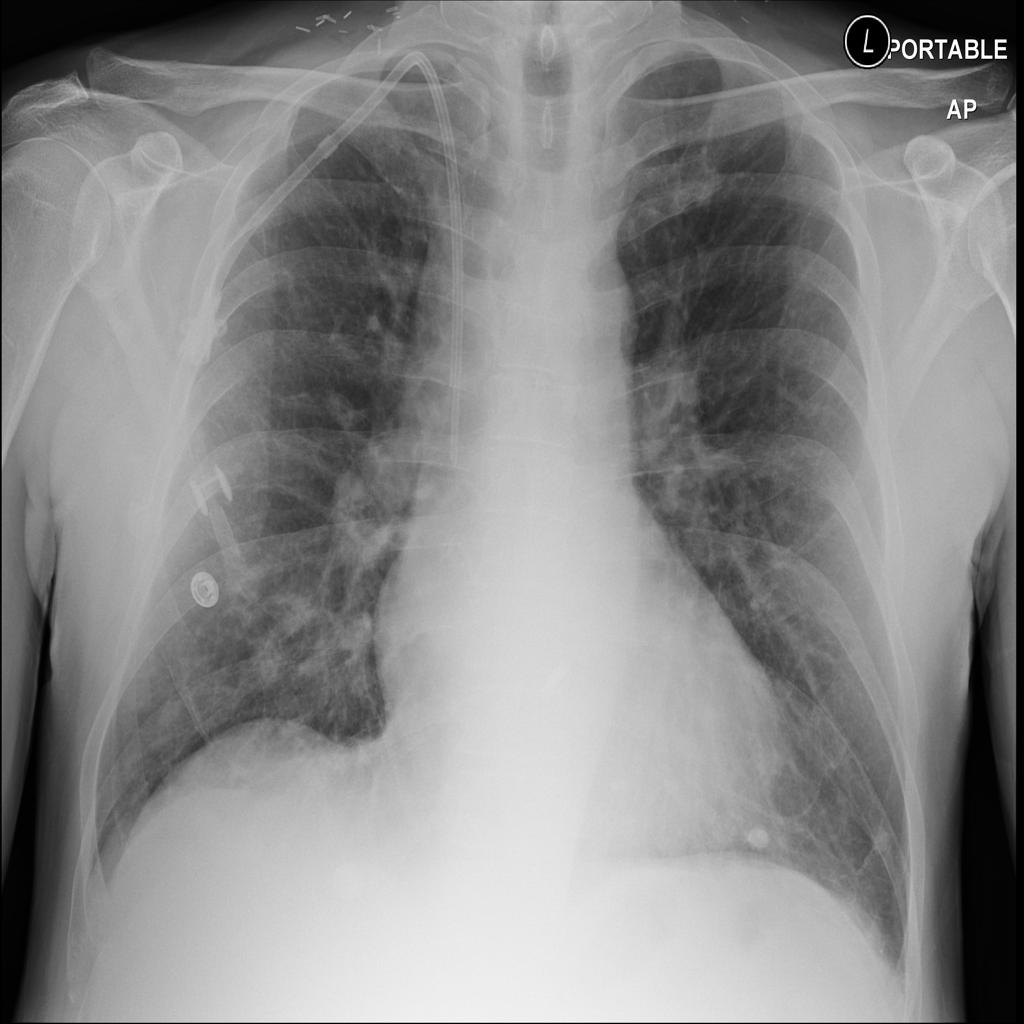nodule: (734, 811, 786, 863), (862, 812, 906, 868)
